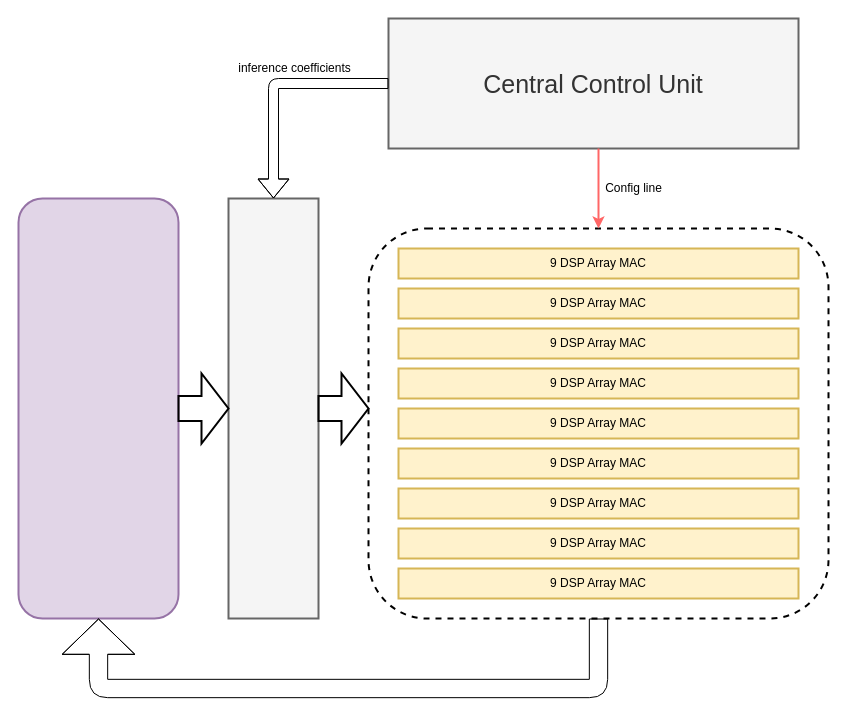
Some shapes in this 846 by 715 pixel diagram are drawn without their labels. The shapes that lost their labels are listed below. From the top down, each one's centre as x and y in pixels, then its label:
At [98,408]: "BRAM Array".
At [273,408]: "Routing Logic".
